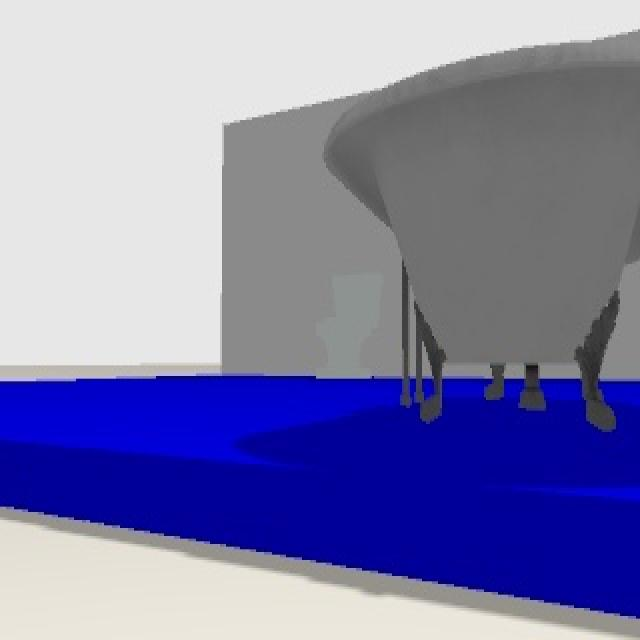bathtub: (326, 29, 638, 427)
